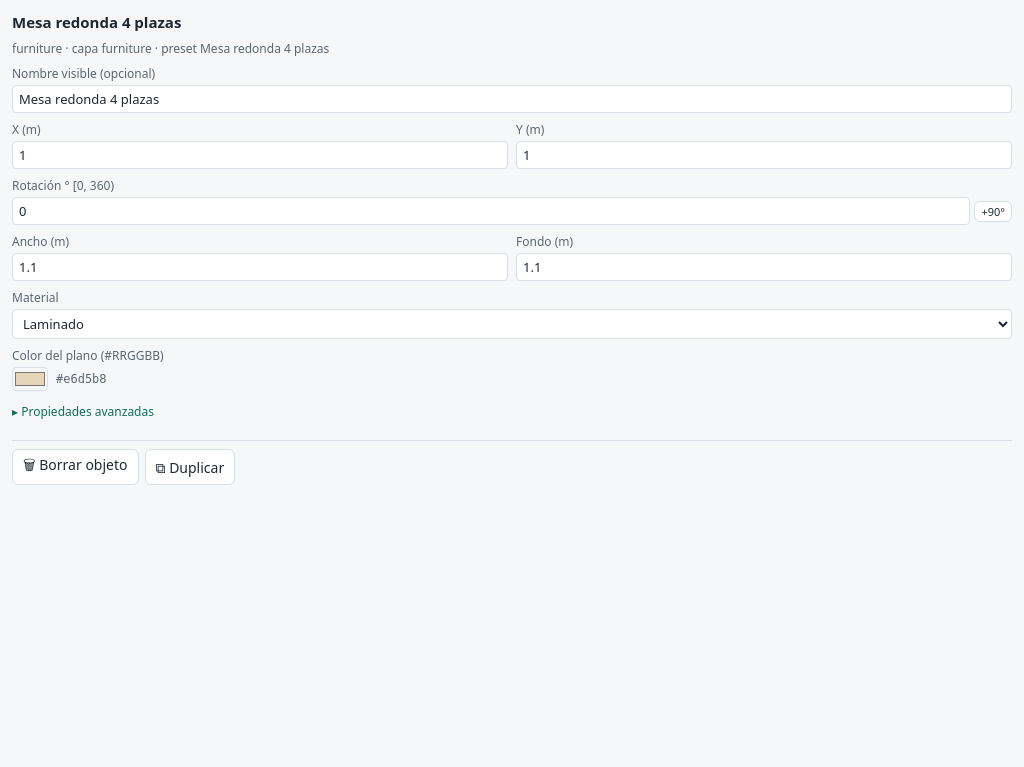
Test: Inspector — modo objeto › muestra las propiedades básicas y las avanzadas van plegadas
The image size is (1024, 767).
Expected: the field with test id "field-object-name" is shown, [12,85,1012,113]
Expected: the number field with test id "field-object-rotation" is shown, [12,197,970,225]
Click the button with test id "fold-advanced" at (86, 412), box [12,399,1012,424]
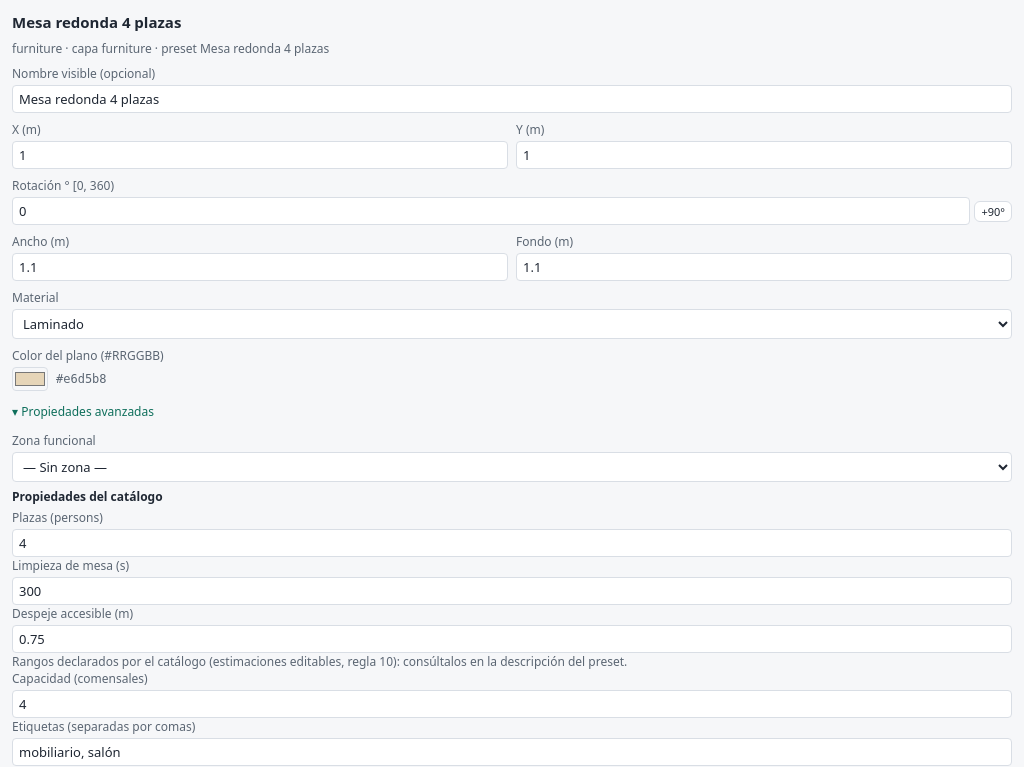
Result: the dropdown with test id "field-object-zone" is shown at [12,452,1012,482]
